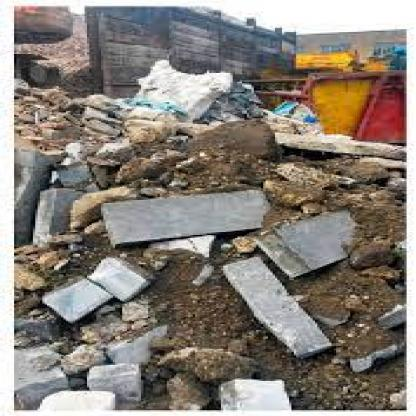brick: (16, 80, 291, 413), (99, 114, 414, 359), (294, 294, 371, 326), (349, 345, 411, 375), (374, 305, 407, 332), (390, 392, 407, 408)
